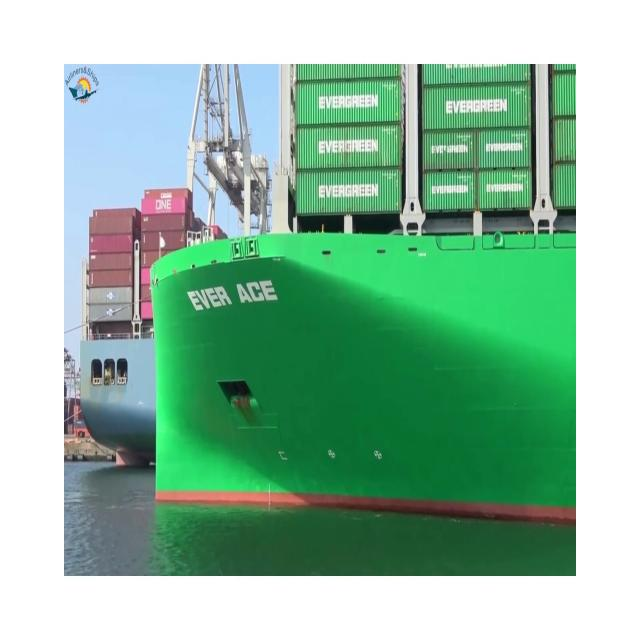OCR: (176, 274, 291, 326)
